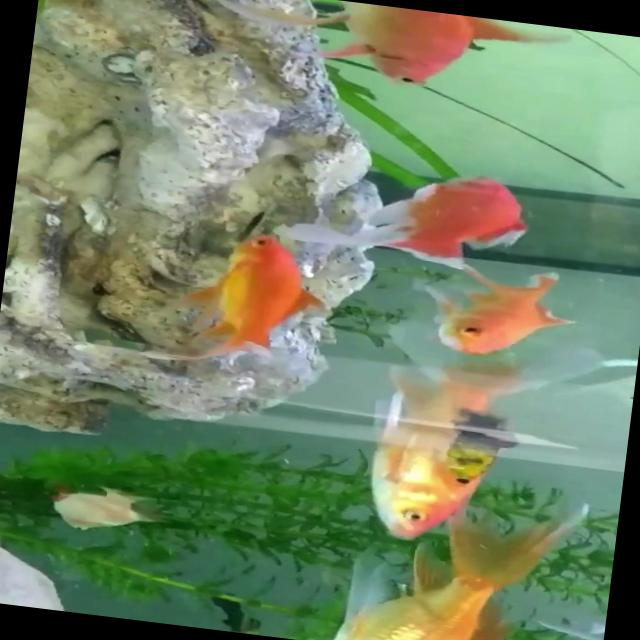GoldFish: (338, 302, 614, 566), (158, 216, 342, 387), (342, 148, 558, 286), (409, 261, 586, 378)
